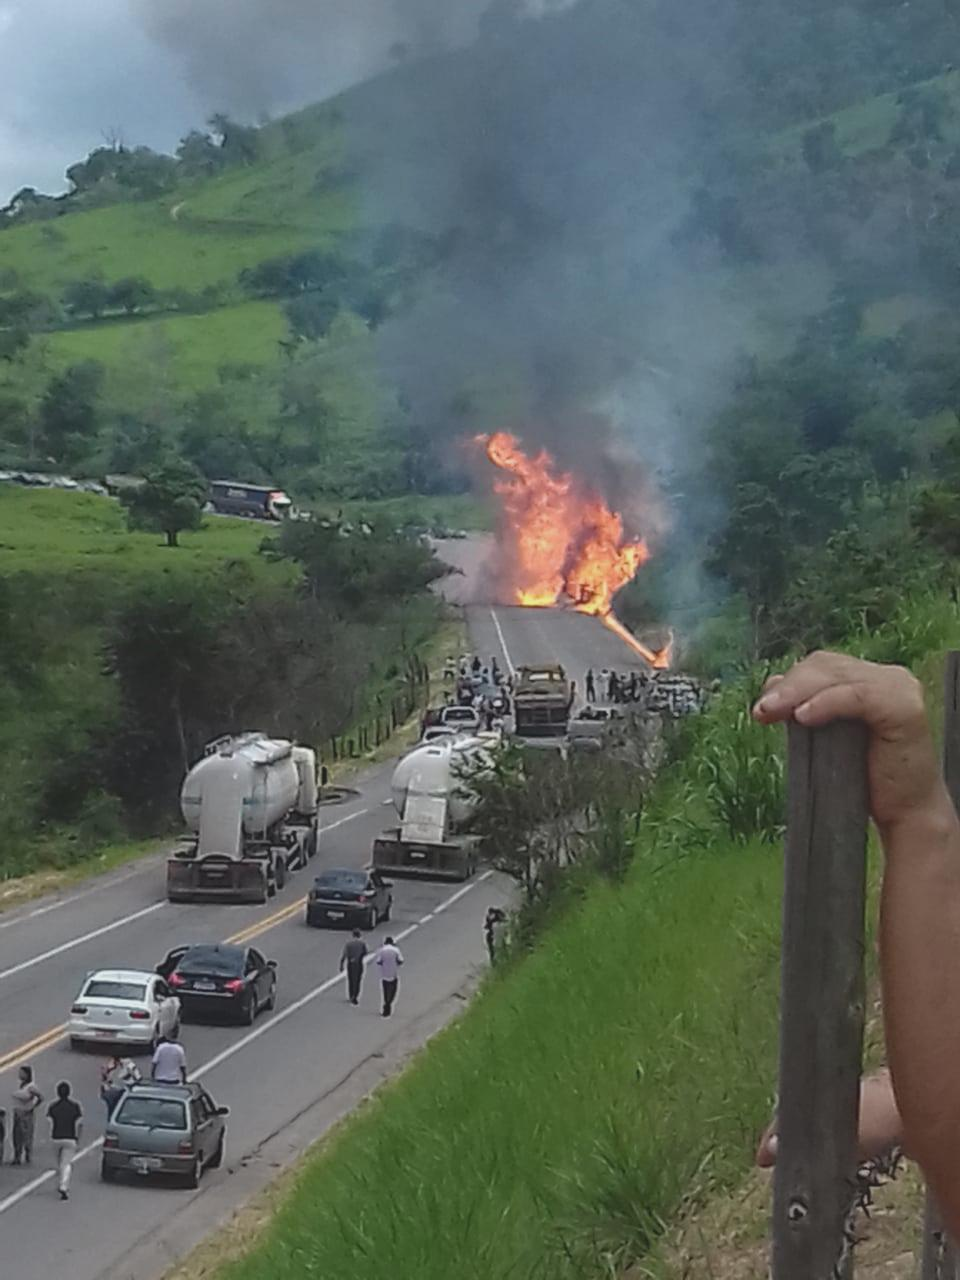Fire: (474, 430, 674, 668)
